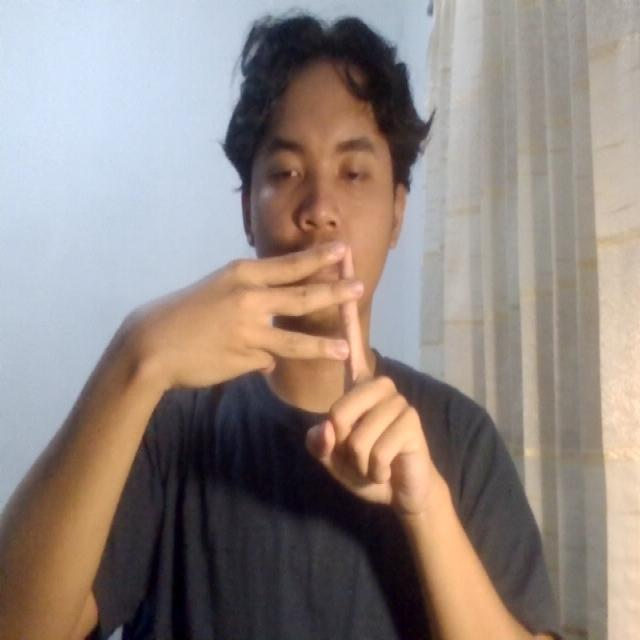B: (156, 219, 450, 537)
